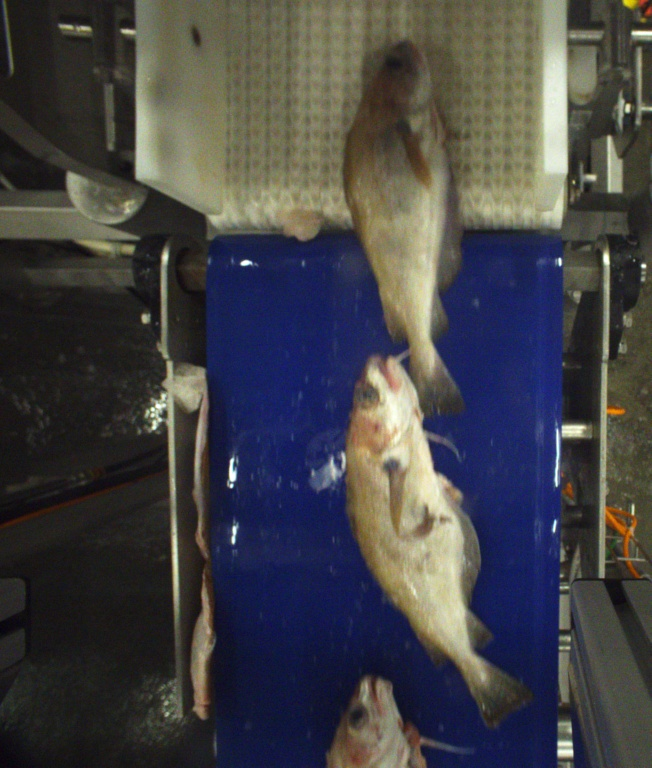BIB: (340, 39, 463, 416)
